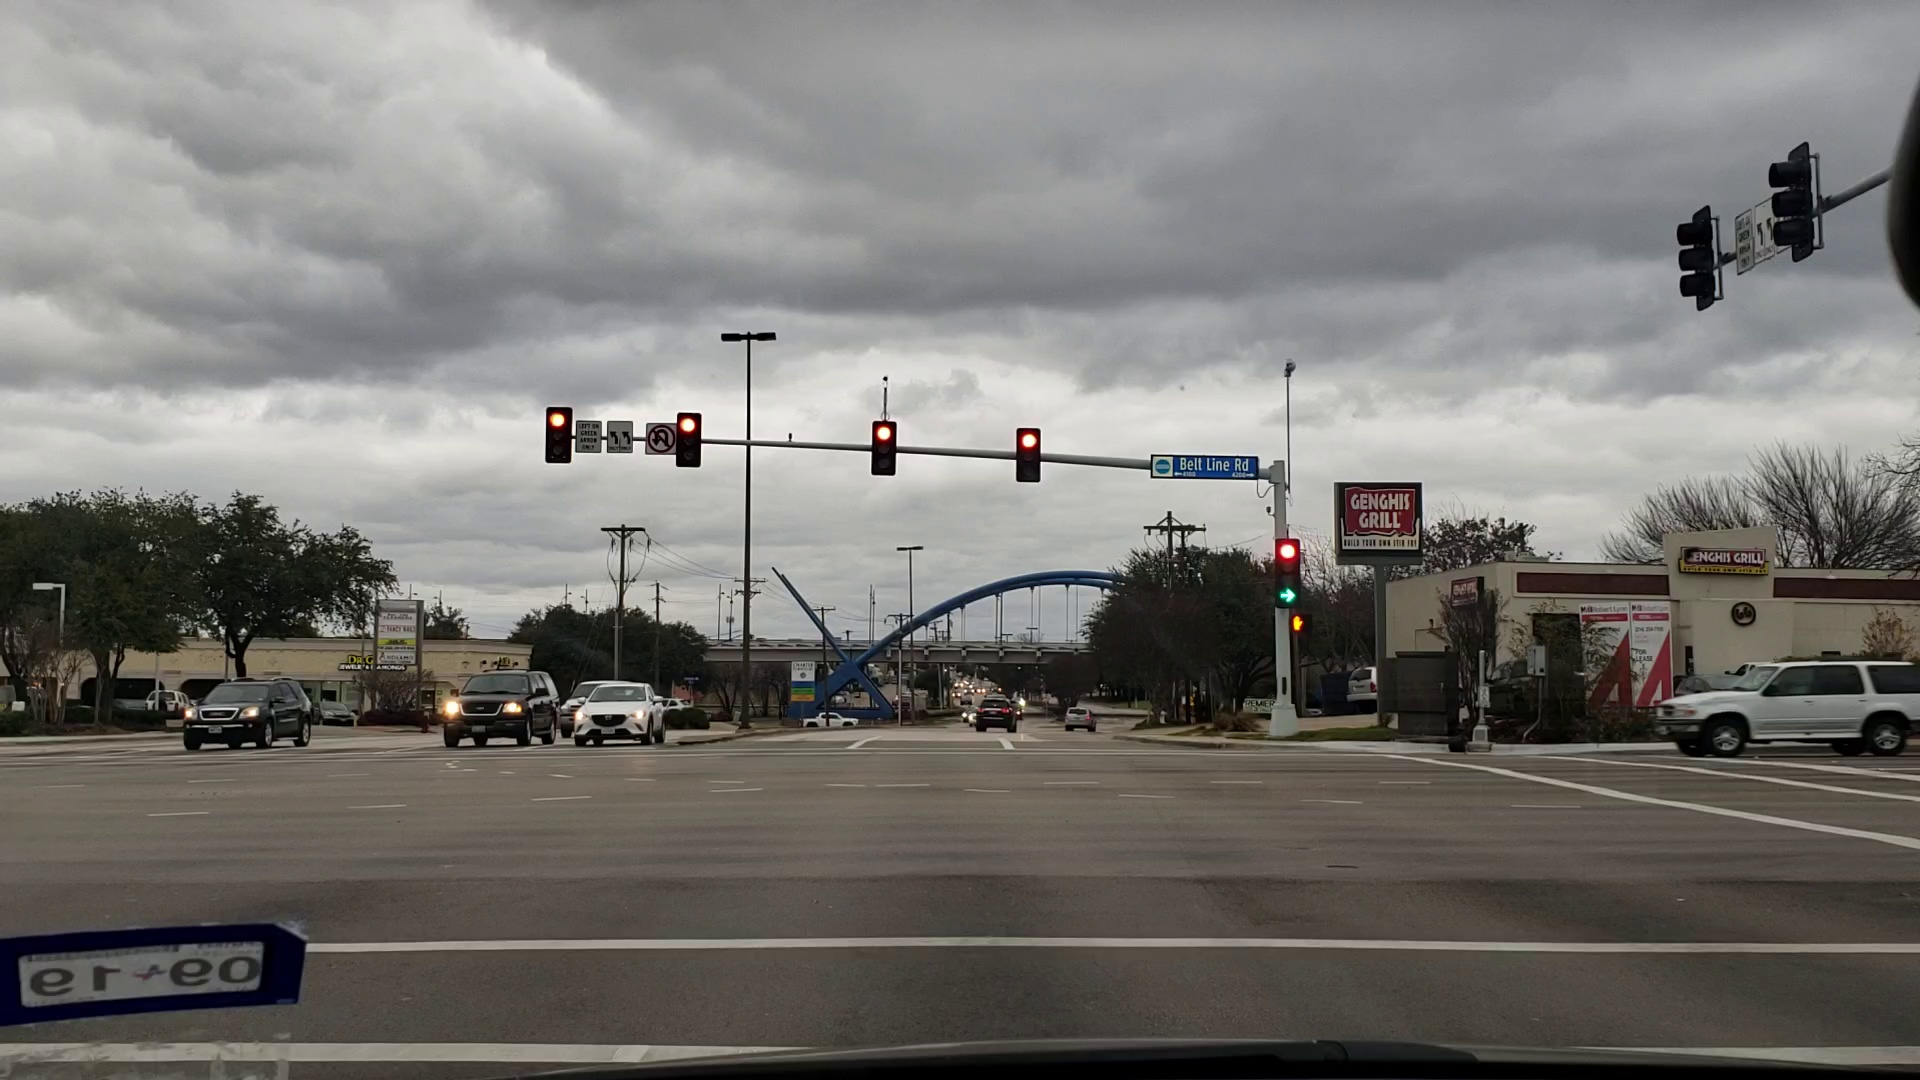car: (1659, 644, 1920, 753), (438, 666, 562, 752), (181, 675, 313, 744), (578, 684, 665, 748), (559, 678, 608, 738), (967, 688, 1021, 735), (1346, 659, 1389, 709), (800, 702, 862, 735), (144, 684, 200, 717), (309, 698, 357, 727), (1062, 709, 1096, 728)
traffic light: (1767, 142, 1811, 257), (1677, 204, 1712, 309), (1273, 538, 1298, 609), (1015, 425, 1042, 483), (545, 405, 570, 465), (676, 411, 702, 463), (873, 421, 894, 480)
